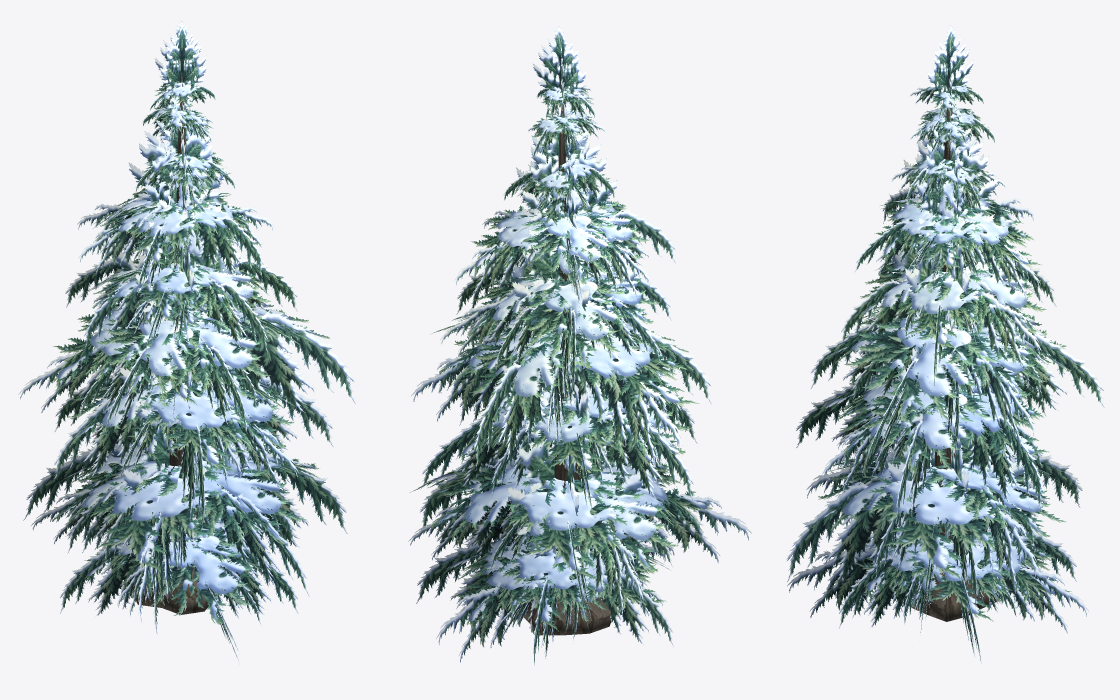
File: tree_pine_snow_full.glb
The picture shows the model from 3 angles, left to right: view 1: azimuth 30°, elevation 25°; view 2: azimuth 150°, elevation 25°; view 3: azimuth 270°, elevation 25°; orthographic projection. The views are drawn at different scales.
Visible parts, largest first — view 1: tree_pine_snow_full; view 2: tree_pine_snow_full; view 3: tree_pine_snow_full.
Boxes of the visible parts, x1=… form: tree_pine_snow_full: x1=18, y1=21, x2=355, y2=660; tree_pine_snow_full: x1=408, y1=26, x2=751, y2=665; tree_pine_snow_full: x1=786, y1=26, x2=1104, y2=663.
Bounding box in the file's own units: 12.44 × 24.23 × 11.66.
2 materials, 2 textured.
